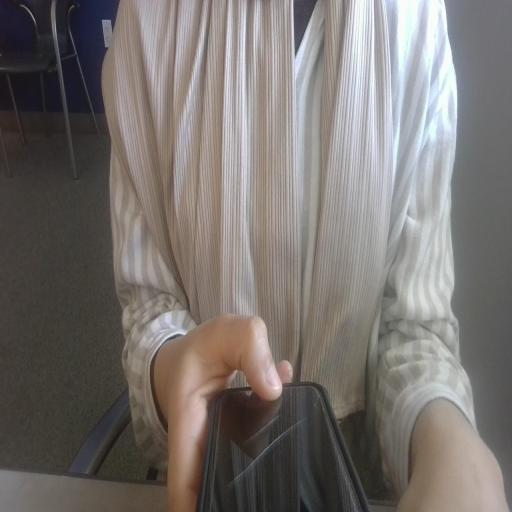phone: (201, 345, 382, 512)
